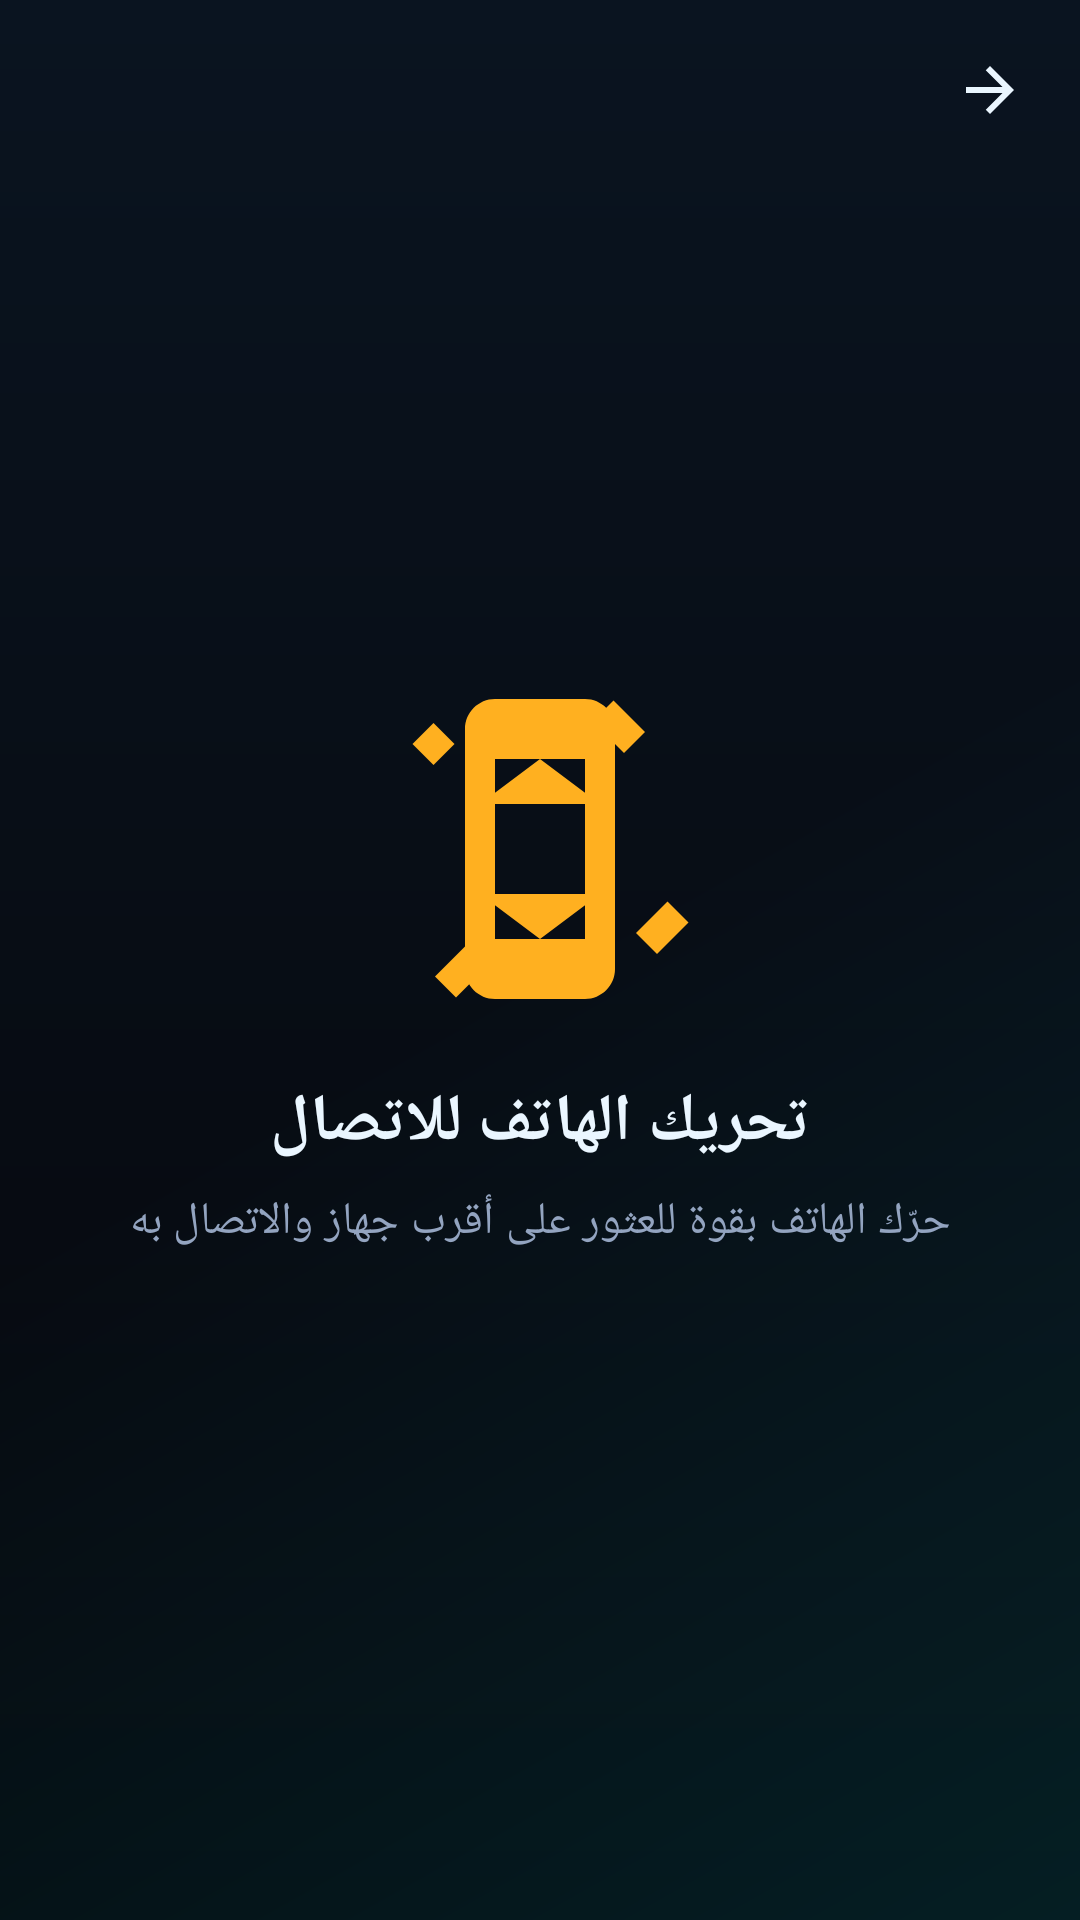

Where to tap for icons on this 1080*1920 app screen, as point (x, y):
رجوع: point (990, 90)
